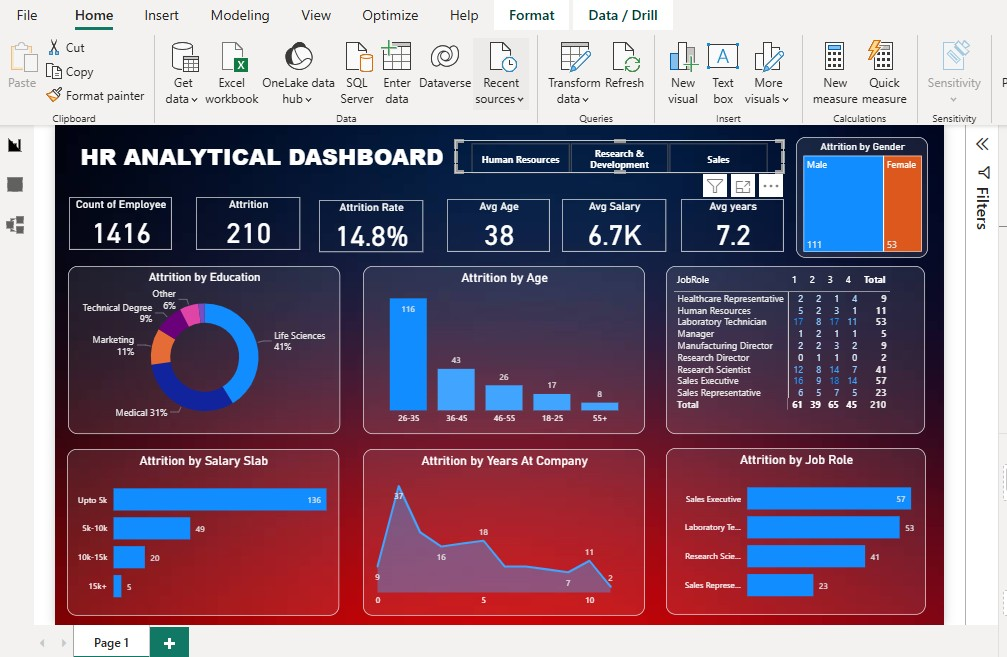

The page's visual inventory and layout, read from the dashboard file:
{"tool":"powerbi","page":{"name":"Page 1","canvas":[1280,720],"ordinal":0},"visuals":[{"type":"card","title":"Count of Employee","fields":{"Values":["CountNonNull(HR_Analytics (1).EmpID)"]},"box":[19.5,104,150,75],"z":0},{"type":"card","title":"Attrition","fields":{"Values":["Sum(HR_Analytics (1).AttritionCount)"]},"box":[203,103.7,149.8,76.3],"z":1000},{"type":"card","title":"Attrition Rate","fields":{"Values":["HR_Analytics (1).AttritionRate"]},"box":[380.2,108,149.8,74.9],"z":2000},{"type":"card","title":"Avg Age","fields":{"Values":["Avg(HR_Analytics (1).Age)"]},"box":[564.5,106.6,148.3,76.3],"z":3000},{"type":"card","title":"Avg Salary","fields":{"Values":["Avg(HR_Analytics (1).MonthlyIncome)"]},"box":[730.1,106.6,149.8,76.3],"z":4000},{"type":"card","title":"Avg years","fields":{"Values":["Avg(HR_Analytics (1).YearsAtCompany)"]},"box":[901.4,106.6,148.3,76.3],"z":5000},{"type":"donutChart","title":"Attrition by Education","fields":{"Y":["CountNonNull(HR_Analytics (1).Attrition)"],"Category":["HR_Analytics (1).EducationField"]},"box":[18.7,203,391.7,241.9],"z":6000},{"type":"columnChart","title":"Attrition by Age","fields":{"Category":["HR_Analytics (1).AgeGroup"],"Y":["Sum(HR_Analytics (1).AttritionCount)"]},"box":[443.5,203,406.1,241.9],"z":7000},{"type":"pivotTable","fields":{"Rows":["HR_Analytics (1).JobRole"],"Columns":["HR_Analytics (1).JobSatisfaction"],"Values":["Sum(HR_Analytics (1).AttritionCount)"]},"box":[879.8,203,373,241.9],"z":8000},{"type":"barChart","title":"Attrition by Salary Slab","fields":{"Category":["HR_Analytics (1).SalarySlab"],"Y":["Sum(HR_Analytics (1).AttritionCount)"]},"box":[17.3,466.6,391.7,240.5],"z":9000},{"type":"barChart","title":"Attrition by Job Role","fields":{"Y":["Sum(HR_Analytics (1).AttritionCount)"],"Category":["HR_Analytics (1).JobRole"]},"box":[879.8,465.1,374.4,240.5],"z":10000},{"type":"areaChart","title":"Attrition by Years At Company","fields":{"Category":["HR_Analytics (1).YearsAtCompany"],"Y":["Sum(HR_Analytics (1).AttritionCount)"]},"box":[443.5,466.6,406.1,240.5],"z":11000},{"type":"treemap","title":"Attrition by Gender","fields":{"Group":["HR_Analytics (1).Gender"],"Values":["Sum(HR_Analytics (1).AttritionCount)"]},"box":[1067,17.3,190.1,174.2],"z":12000},{"type":"textbox","box":[20.2,17.3,555.8,72],"z":13000},{"type":"slicer","fields":{"Values":["HR_Analytics (1).Department"]},"box":[576,21.6,473.8,47.5],"z":14000}]}

Visuals, with their boxes on the page's 1280x720 design canvas (x1, y1, x2, y2). These are canvas units, not pixel positions in the 1007x657 screenshot, which may show the page scaled, cropped or inside an application window:
"Count of Employee" card: x1=20, y1=104, x2=170, y2=179
"Attrition" card: x1=203, y1=104, x2=353, y2=180
"Attrition Rate" card: x1=380, y1=108, x2=530, y2=183
"Avg Age" card: x1=564, y1=107, x2=713, y2=183
"Avg Salary" card: x1=730, y1=107, x2=880, y2=183
"Avg years" card: x1=901, y1=107, x2=1050, y2=183
"Attrition by Education" donutChart: x1=19, y1=203, x2=410, y2=445
"Attrition by Age" columnChart: x1=444, y1=203, x2=850, y2=445
pivotTable - HR_Analytics (1).JobRole x HR_Analytics (1).JobSatisfaction: x1=880, y1=203, x2=1253, y2=445
"Attrition by Salary Slab" barChart: x1=17, y1=467, x2=409, y2=707
"Attrition by Job Role" barChart: x1=880, y1=465, x2=1254, y2=706
"Attrition by Years At Company" areaChart: x1=444, y1=467, x2=850, y2=707
"Attrition by Gender" treemap: x1=1067, y1=17, x2=1257, y2=192
textbox: x1=20, y1=17, x2=576, y2=89
slicer - HR_Analytics (1).Department: x1=576, y1=22, x2=1050, y2=69
